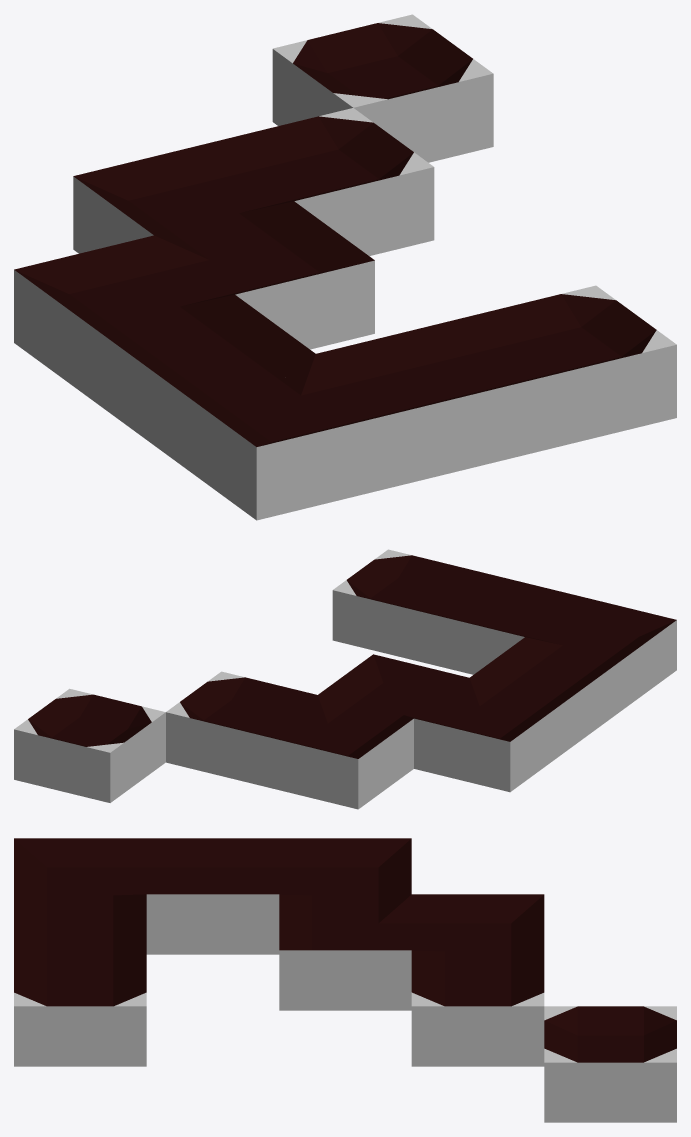
File: 56f_path.obj
3 renders of one model, top to bottom at view 1: azimuth 30°, elevation 25°; view 2: azimuth 150°, elevation 25°; view 3: azimuth 270°, elevation 25°, orthographic. The views are drawn at different scales.
Visible parts, largest first — view 1: foil.corner.0.0_corner.1294, foil.ending.2.0_ending.523, foil.hole.3.4_Cube.263, foil.through.1.0_through.275, foil.ending.2.3_ending.524, foil.corner.0.2_corner.1295, foil.corner.1.2_corner.1296, foil.through.0.1_through.274, foil.corner.1.3_corner.1297; view 2: foil.hole.3.4_Cube.263, foil.corner.0.2_corner.1295, foil.corner.1.3_corner.1297, foil.ending.2.0_ending.523, foil.ending.2.3_ending.524, foil.through.1.0_through.275, foil.corner.0.0_corner.1294, foil.through.0.1_through.274, foil.corner.1.2_corner.1296; view 3: foil.through.0.1_through.274, foil.hole.3.4_Cube.263, foil.ending.2.3_ending.524, foil.corner.1.2_corner.1296, foil.ending.2.0_ending.523, foil.corner.1.3_corner.1297, foil.corner.0.0_corner.1294, foil.corner.0.2_corner.1295, foil.through.1.0_through.275.
Boxes of the visible parts, bbox=[...] form: foil.corner.0.0_corner.1294: bbox=[175, 354, 396, 520]; foil.ending.2.0_ending.523: bbox=[456, 285, 676, 451]; foil.hole.3.4_Cube.263: bbox=[272, 14, 493, 162]; foil.through.1.0_through.275: bbox=[316, 319, 536, 486]; foil.ending.2.3_ending.524: bbox=[213, 108, 434, 255]; foil.corner.0.2_corner.1295: bbox=[14, 235, 234, 401]; foil.corner.1.2_corner.1296: bbox=[154, 201, 374, 349]; foil.through.0.1_through.274: bbox=[95, 295, 315, 460]; foil.corner.1.3_corner.1297: bbox=[73, 142, 293, 253]; foil.hole.3.4_Cube.263: bbox=[14, 688, 165, 802]; foil.corner.0.2_corner.1295: bbox=[414, 678, 565, 792]; foil.corner.1.3_corner.1297: bbox=[262, 695, 413, 809]; foil.ending.2.0_ending.523: bbox=[332, 549, 483, 663]; foil.ending.2.3_ending.524: bbox=[166, 671, 317, 785]; foil.through.1.0_through.275: bbox=[429, 573, 580, 674]; foil.corner.0.0_corner.1294: bbox=[526, 596, 676, 710]; foil.through.0.1_through.274: bbox=[470, 637, 621, 751]; foil.corner.1.2_corner.1296: bbox=[318, 654, 469, 724]; foil.through.0.1_through.274: bbox=[146, 838, 279, 954]; foil.hole.3.4_Cube.263: bbox=[544, 1006, 676, 1122]; foil.ending.2.3_ending.524: bbox=[411, 950, 544, 1066]; foil.corner.1.2_corner.1296: bbox=[279, 894, 411, 1010]; foil.ending.2.0_ending.523: bbox=[14, 950, 146, 1066]; foil.corner.1.3_corner.1297: bbox=[411, 894, 544, 965]; foil.corner.0.0_corner.1294: bbox=[14, 838, 146, 909]; foil.corner.0.2_corner.1295: bbox=[279, 838, 411, 909]; foil.through.1.0_through.275: bbox=[14, 894, 146, 965].
Bounding box in the file's own units: 8 × 1 × 10.
